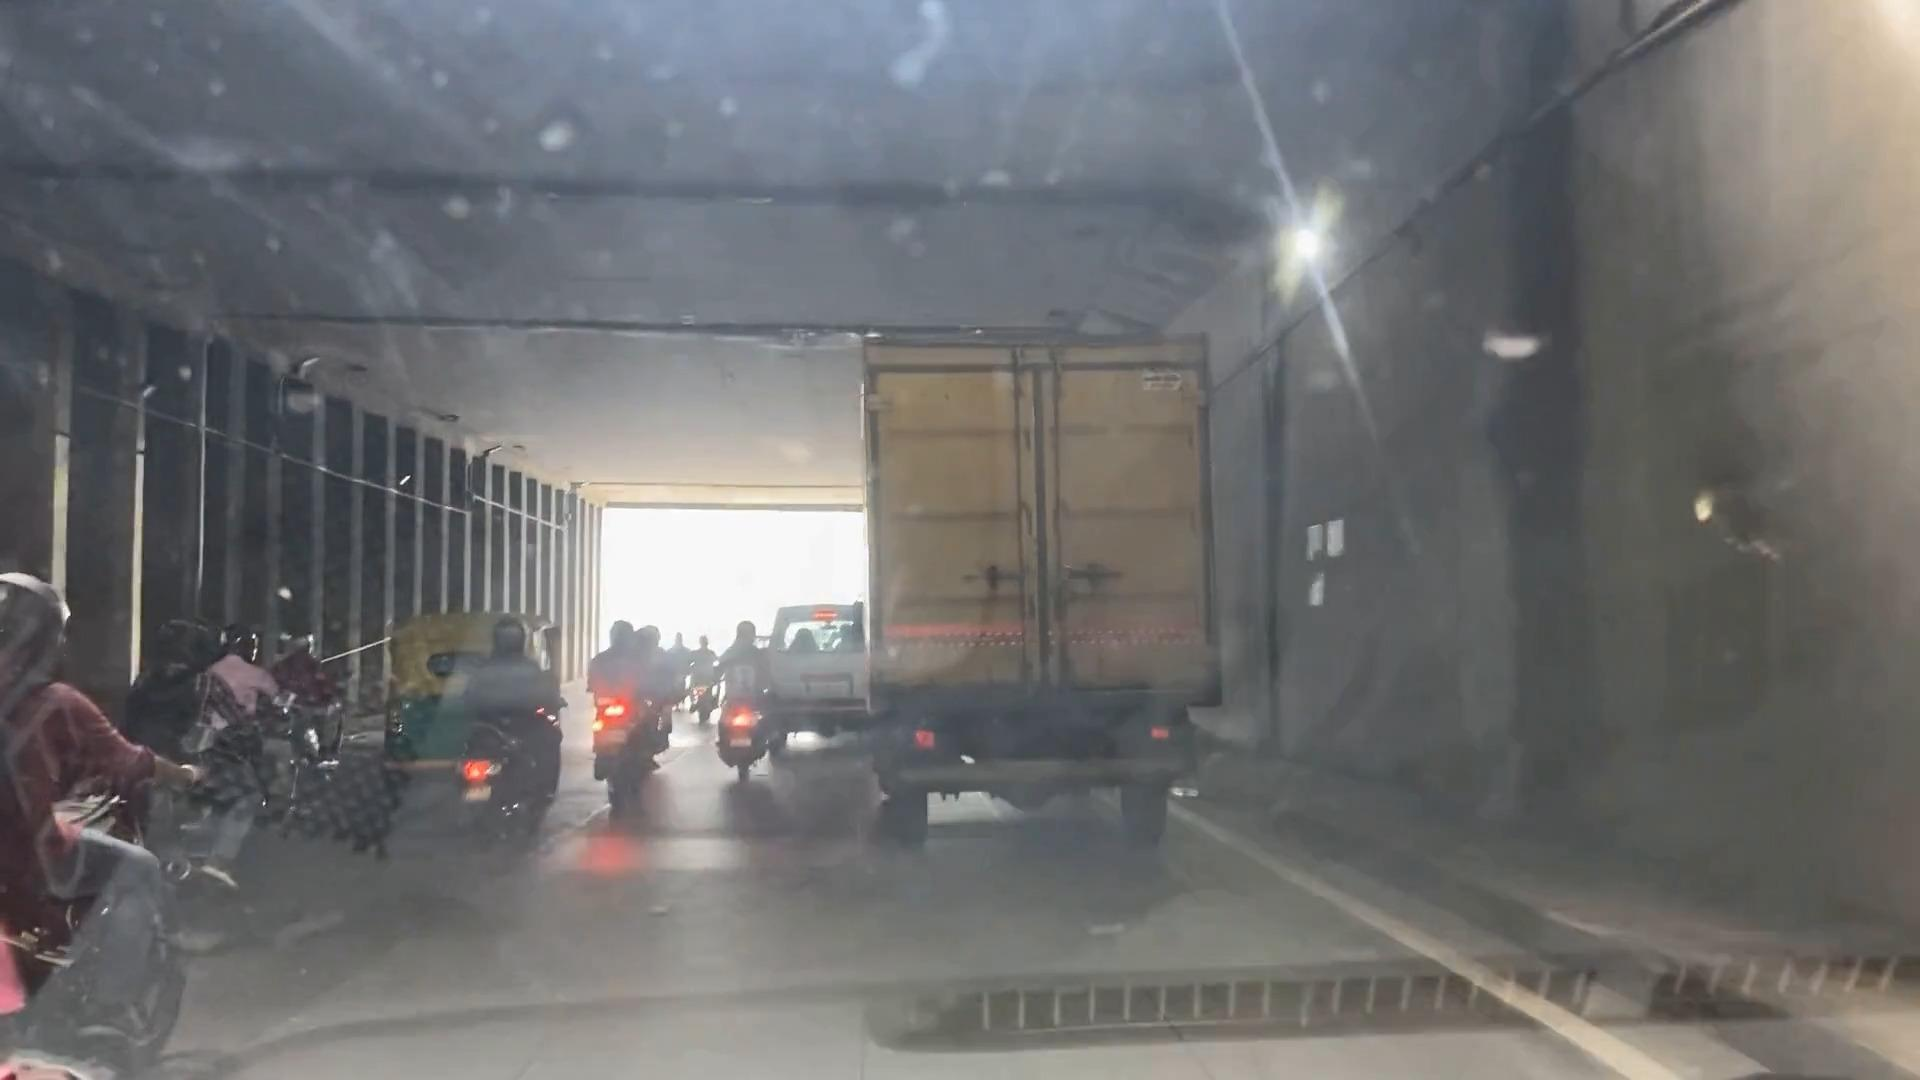HMV: (866, 330, 1208, 855)
LMV: (587, 624, 675, 828), (460, 626, 537, 837), (713, 611, 774, 787)
